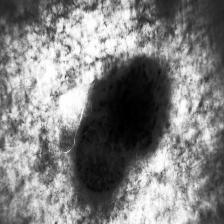Benign Marking or Mole: (76, 62, 162, 192)
